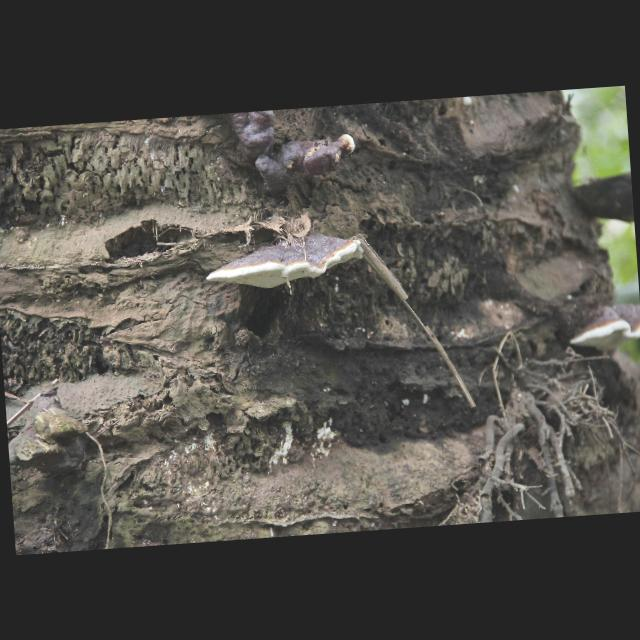ganoderma: (204, 228, 367, 293), (230, 107, 342, 201), (567, 302, 640, 355)
primordium: (338, 134, 357, 157), (463, 97, 474, 107)
